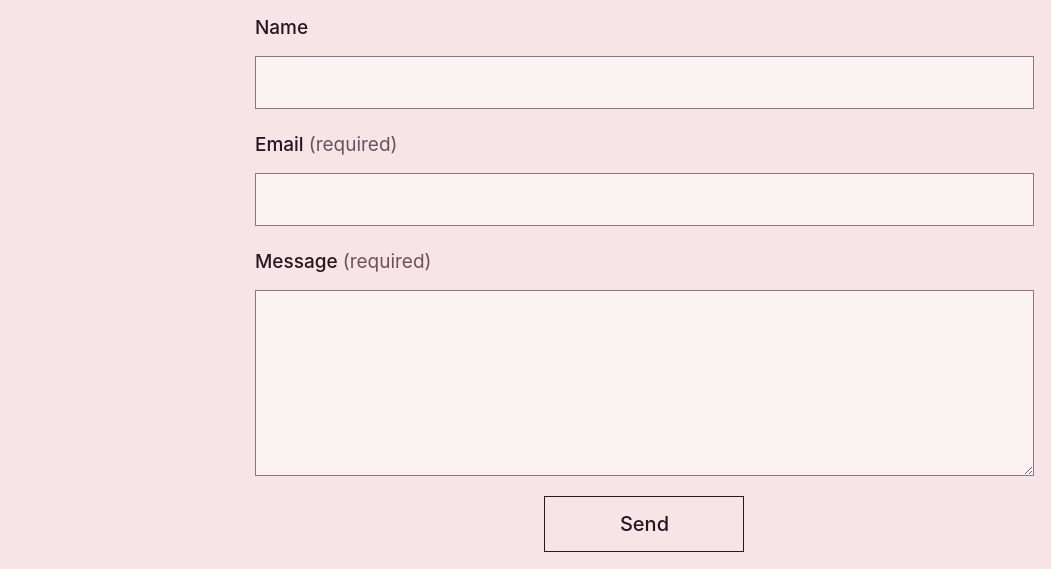
Test case: ContactForm with handleContact › sends one mail with the visitor's details and shows the success Lead
Type "Ada Lovelace" into the field labelled "Name" at (644, 83), box [255,56,1034,109]
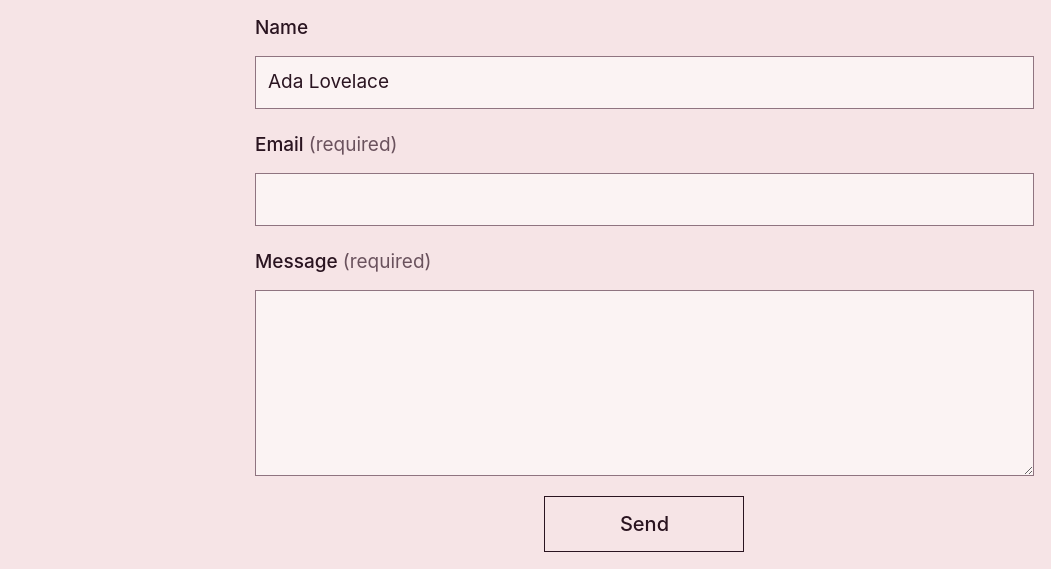
Type "ada@example.com" into the field labelled "Email (required)" at (644, 200), box [255,173,1034,226]
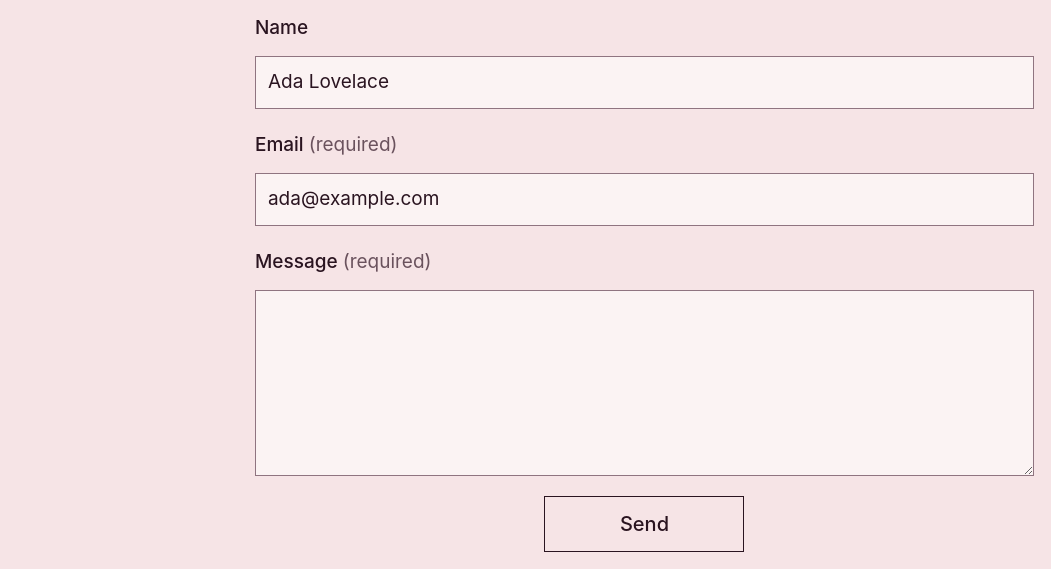
Type "Hello Rachel" into the text box labelled "Message (required)" at (644, 383), box [255,290,1034,476]
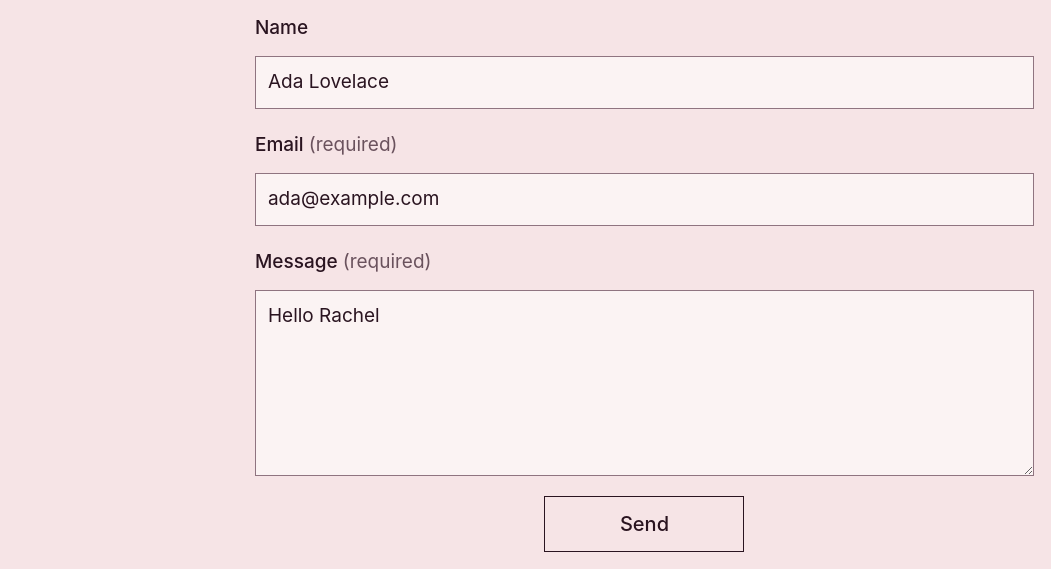
Click the button "Send" at (644, 524), box [544,496,744,552]
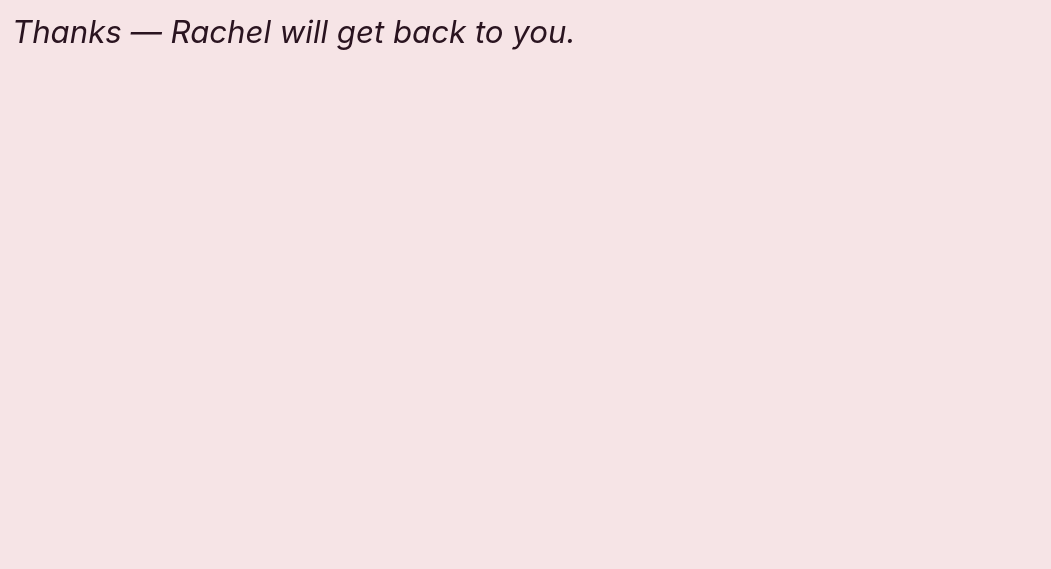
Expected: the form is gone
